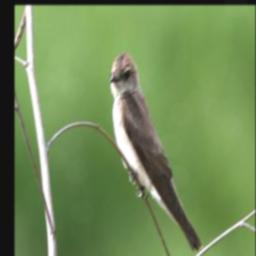Swallow: (108, 50, 204, 254)
